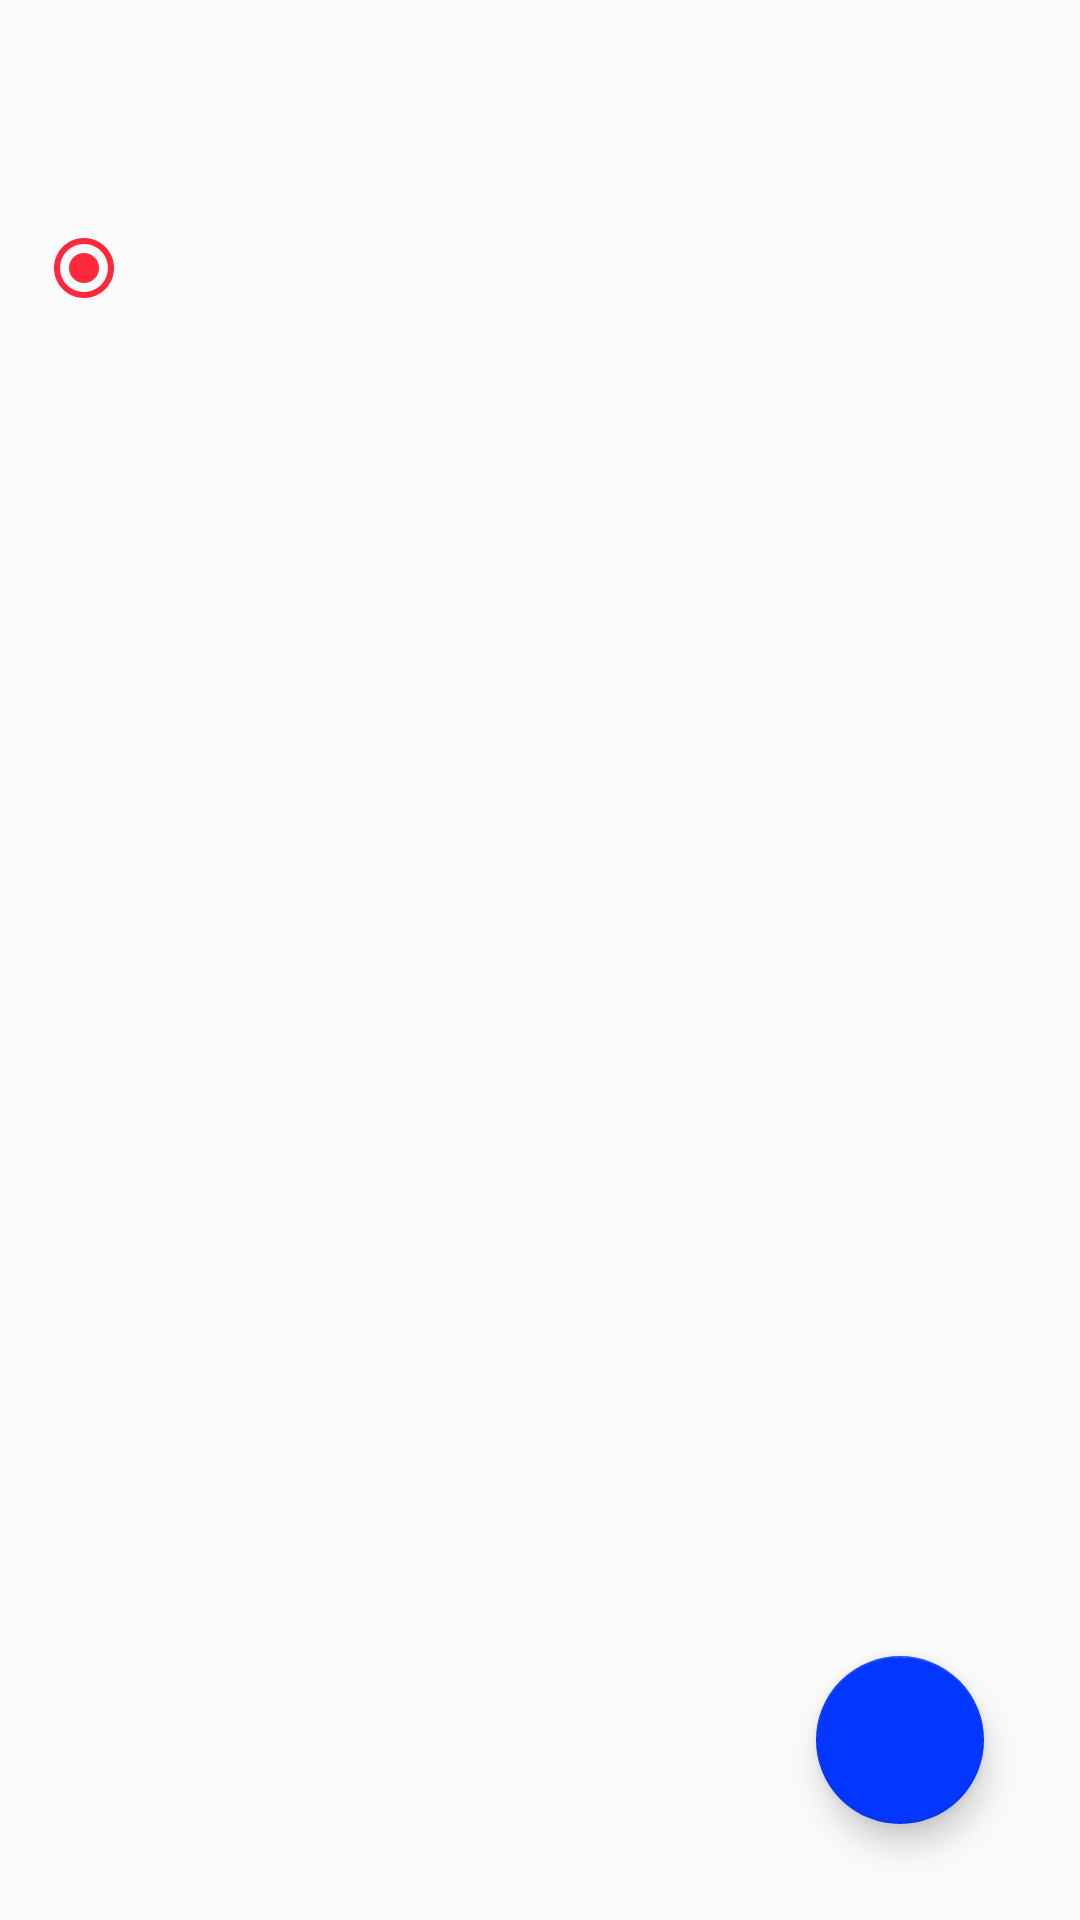

Named icons in this screenshot (1080w x 1920h) and their bounding boxes, {"left": x1, "top": y1, "right": x2, "bottom": y2}:
radio checked: {"left": 54, "top": 238, "right": 114, "bottom": 298}
